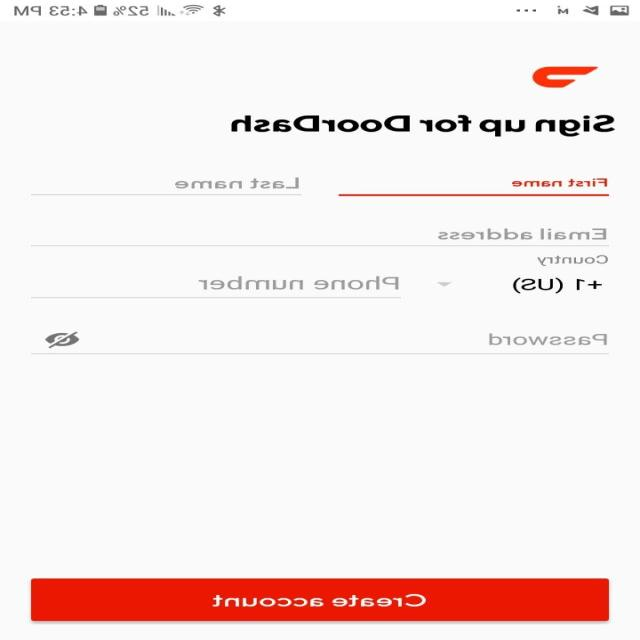EditText: (31, 330, 609, 354), (31, 228, 609, 246), (31, 276, 401, 298), (338, 178, 610, 197), (31, 177, 302, 195)
Icon: (45, 331, 81, 348), (438, 282, 452, 286)
Image: (532, 66, 598, 88)
Text: (231, 114, 615, 137), (199, 276, 400, 290), (438, 228, 607, 240), (512, 276, 603, 294), (175, 177, 300, 189), (489, 333, 608, 345), (537, 254, 609, 266), (512, 178, 608, 186)
TextButton: (31, 578, 609, 621)
